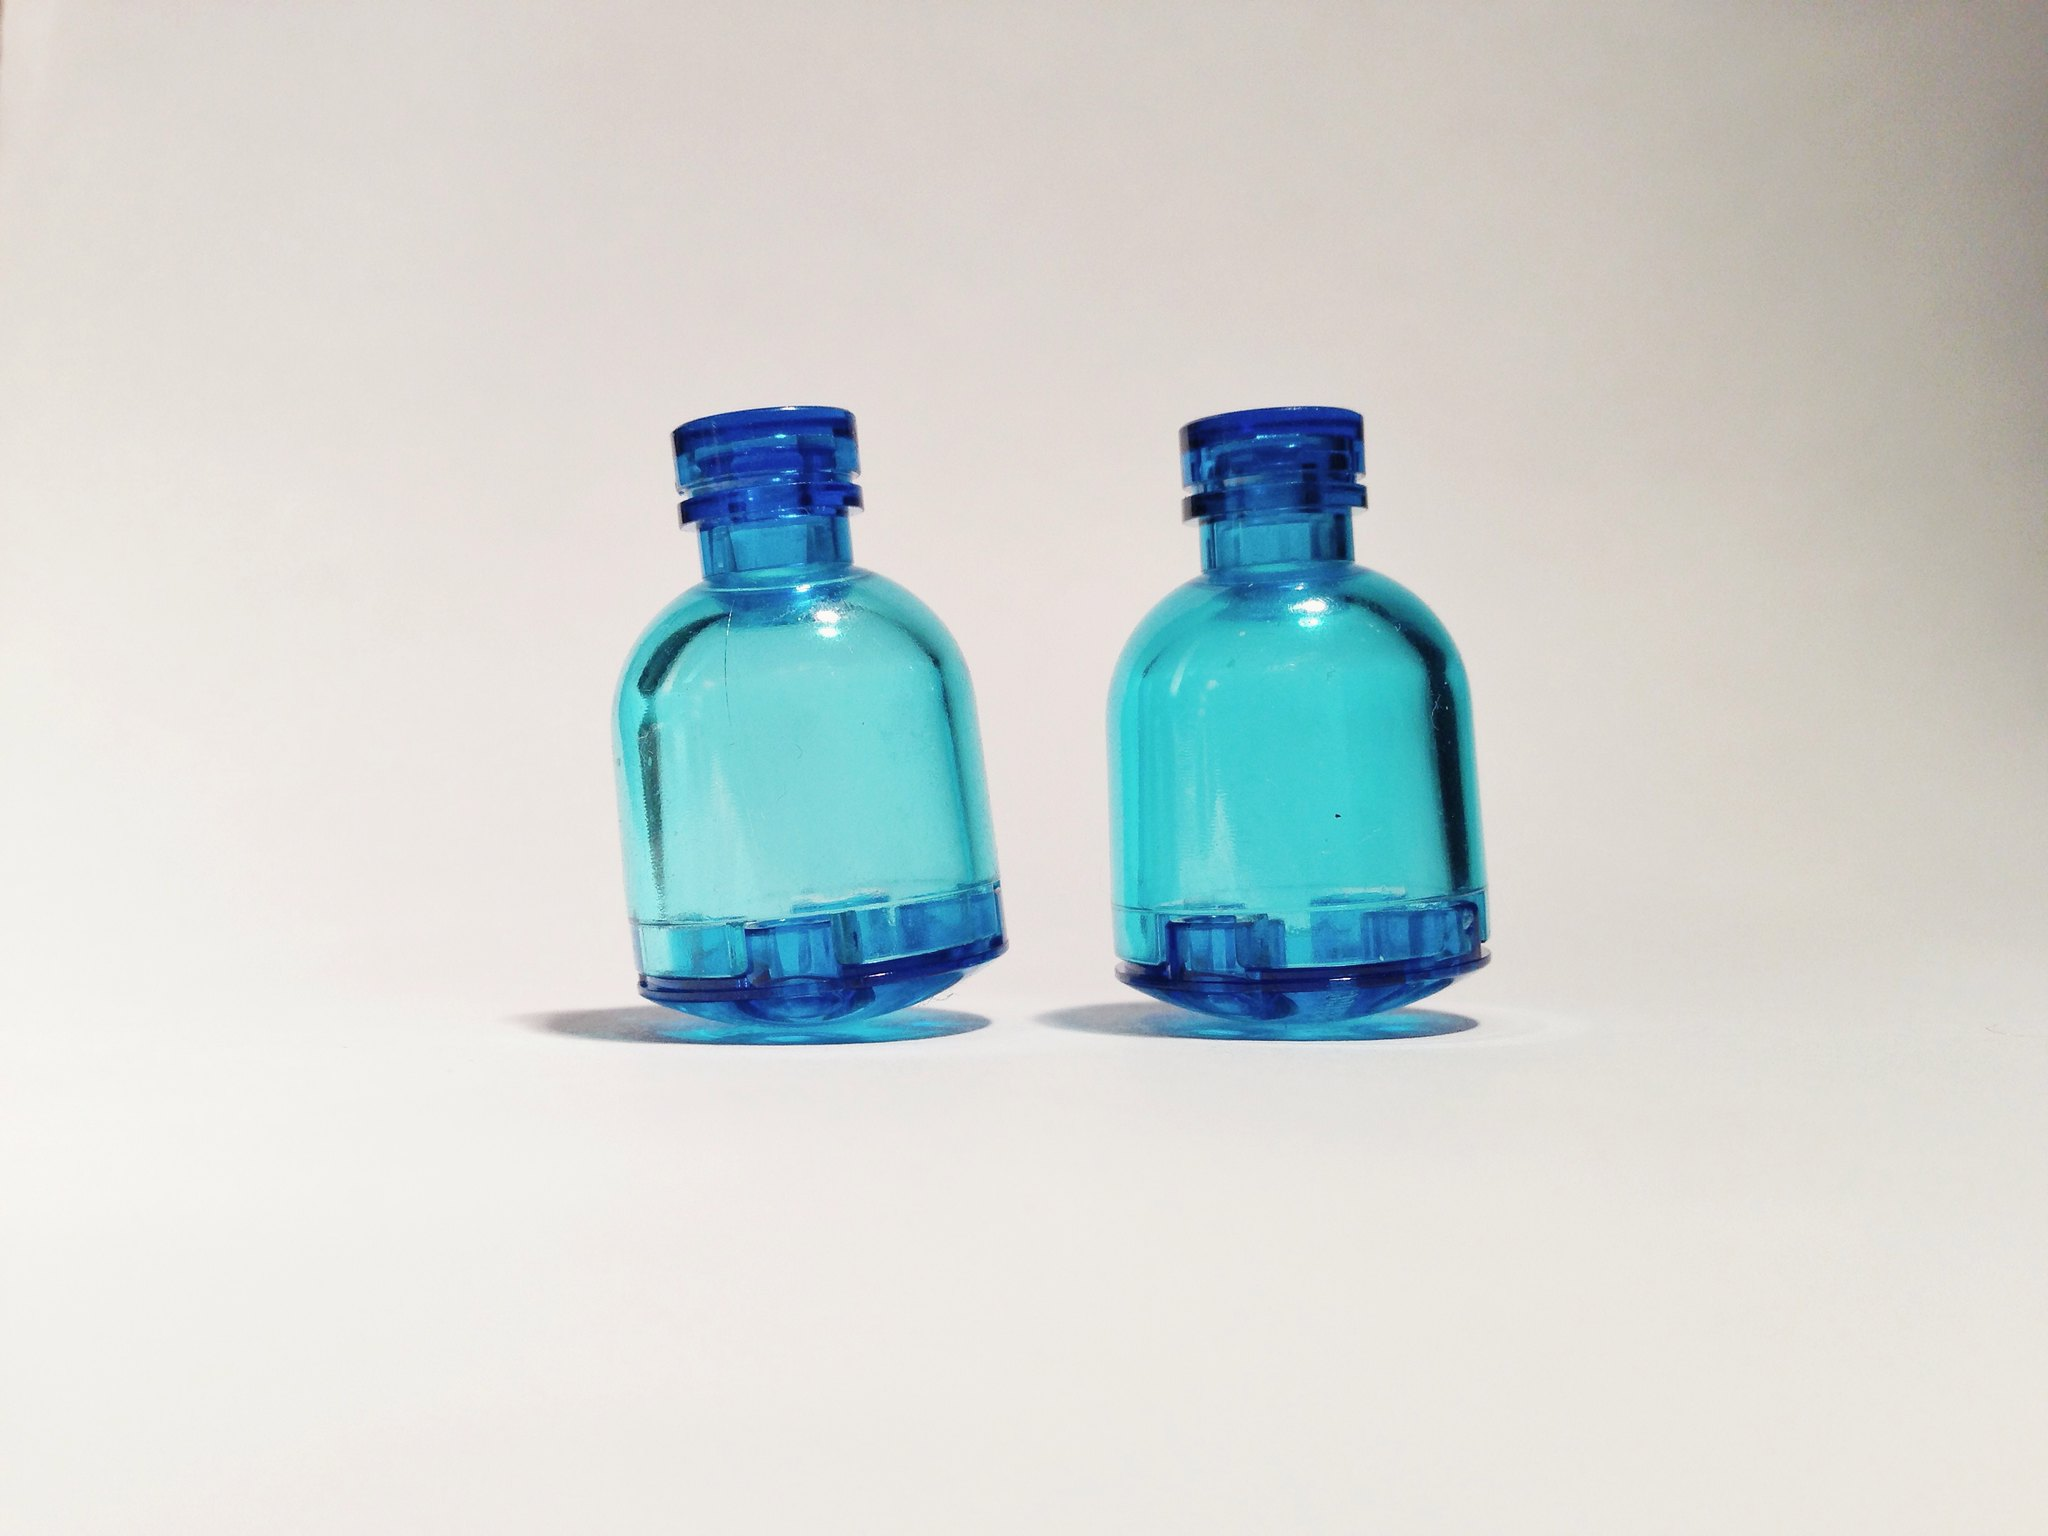bottle: (1100, 395, 1543, 1036), (597, 394, 1018, 1054)
